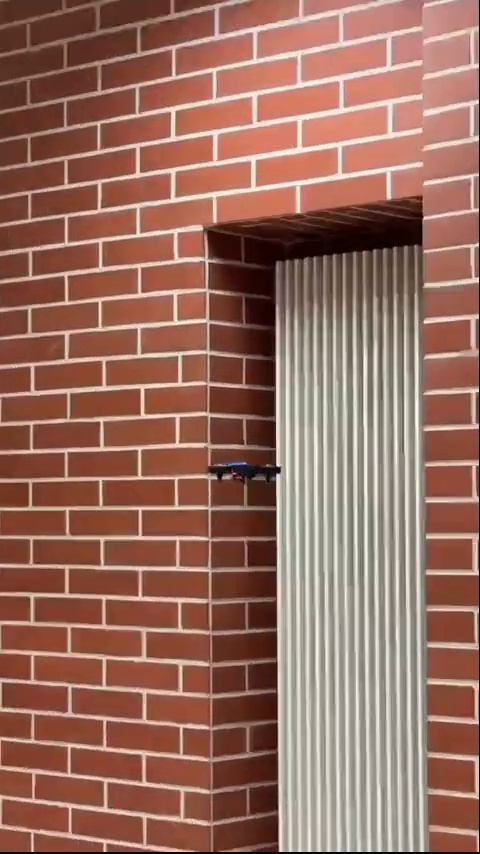drone: (199, 457, 287, 485)
